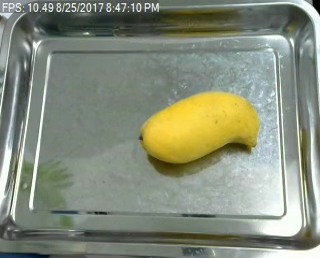Mango: (137, 84, 260, 164)
